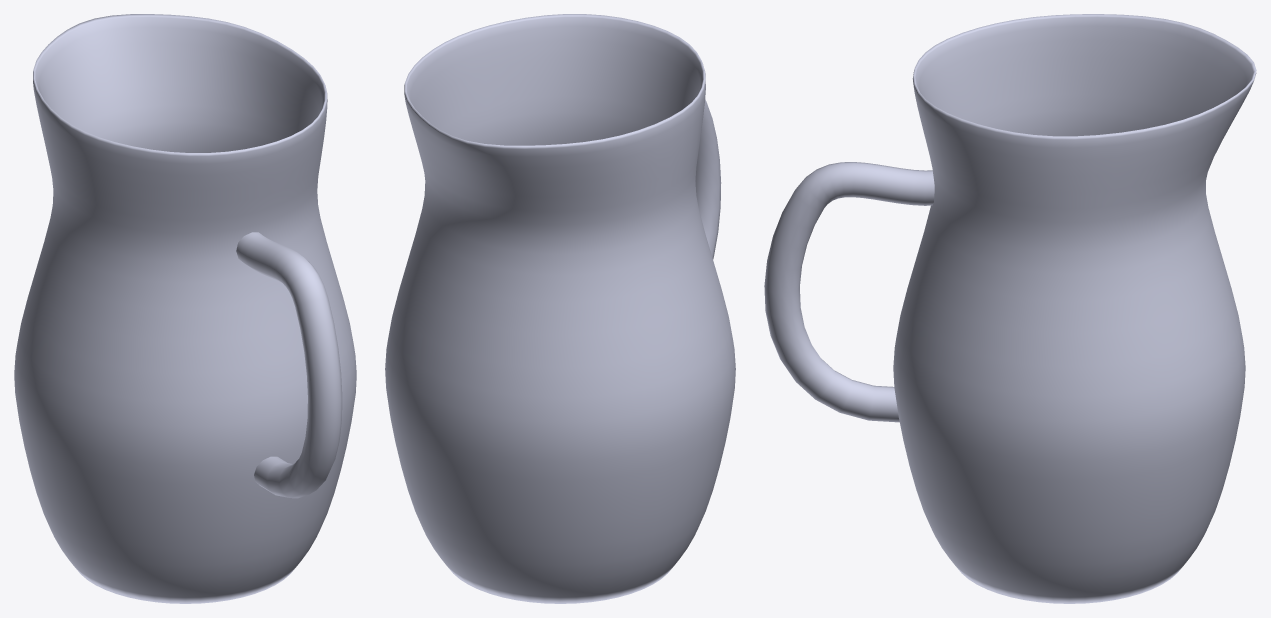
Rendered from Jug.glb.
The picture shows the model from 3 angles, left to right: view 1: azimuth 30°, elevation 25°; view 2: azimuth 150°, elevation 25°; view 3: azimuth 270°, elevation 25°; orthographic projection. The views are drawn at different scales.
Visible parts, largest first — view 1: Circle, BézierCurve.001; view 2: Circle, BézierCurve.001; view 3: Circle, BézierCurve.001.
Part boxes in pixels (<box>): Circle: <box>14,14,356,603</box>; BézierCurve.001: <box>236,232,342,498</box>; Circle: <box>385,14,735,603</box>; BézierCurve.001: <box>695,99,721,259</box>; Circle: <box>893,14,1256,603</box>; BézierCurve.001: <box>764,162,934,422</box>.
Bounding box in the file's own units: 1.99 × 3.01 × 2.78.
